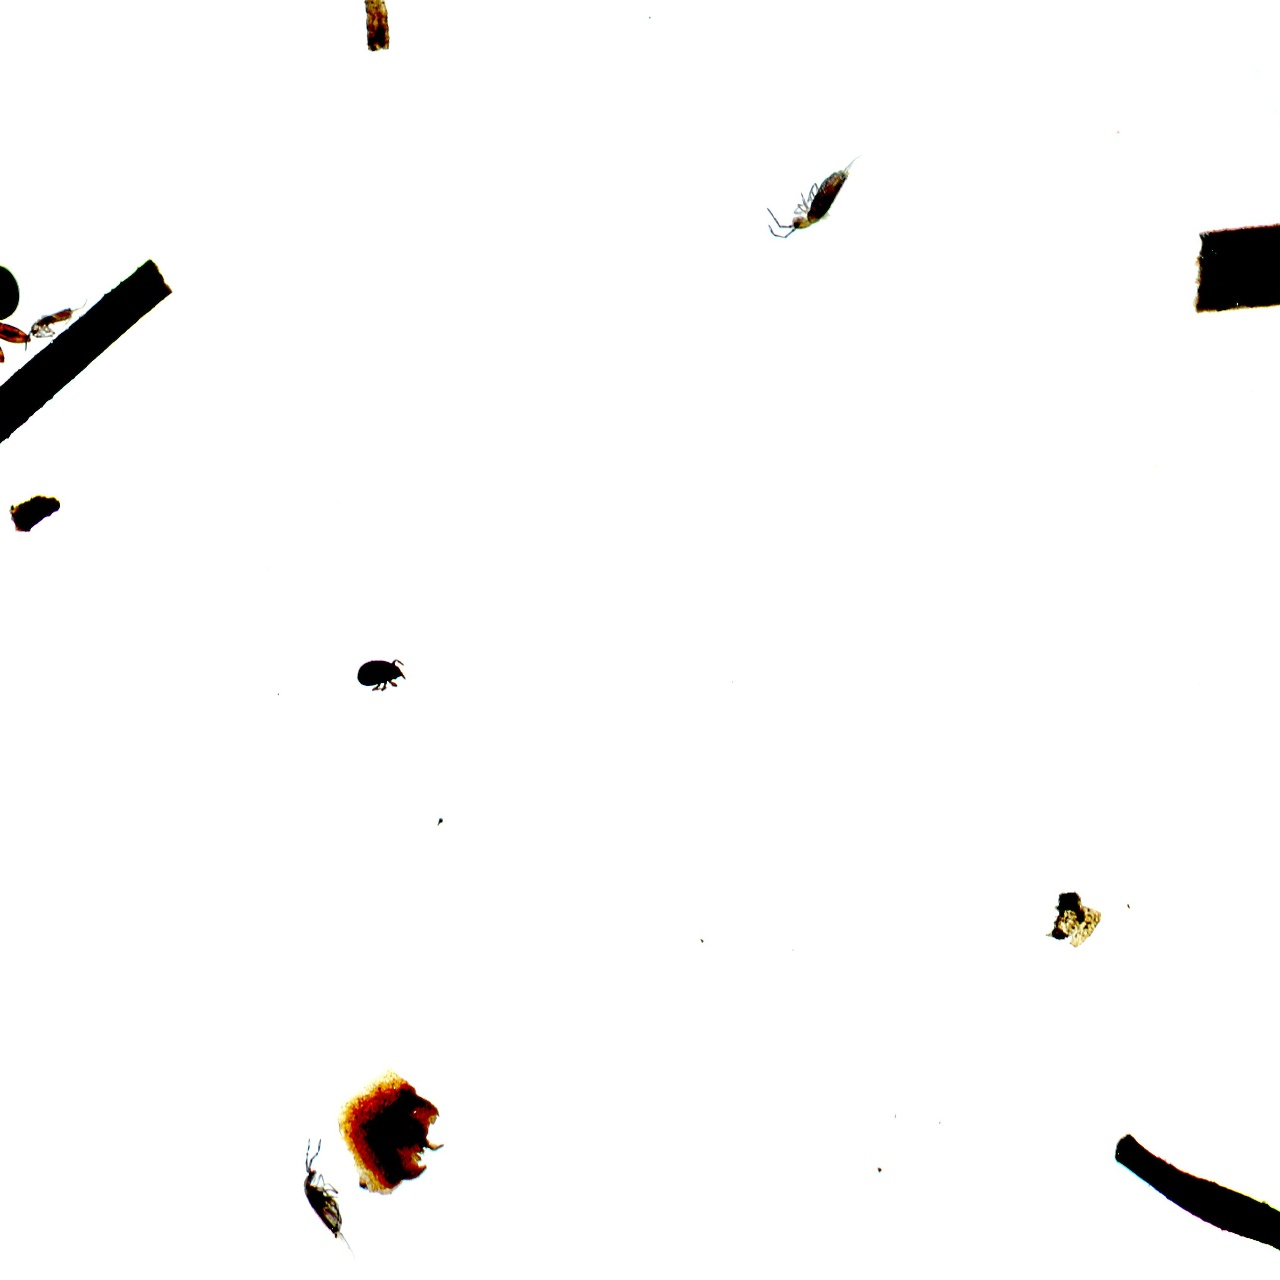arthropod: (0, 186, 89, 482), (750, 113, 879, 264), (275, 1118, 392, 1280), (7, 279, 103, 362), (349, 649, 415, 699)
